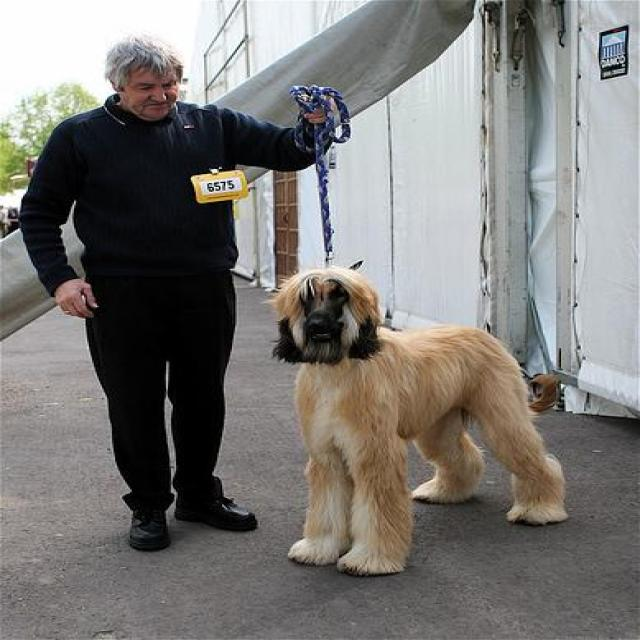afghan_hound: (260, 264, 569, 578)
